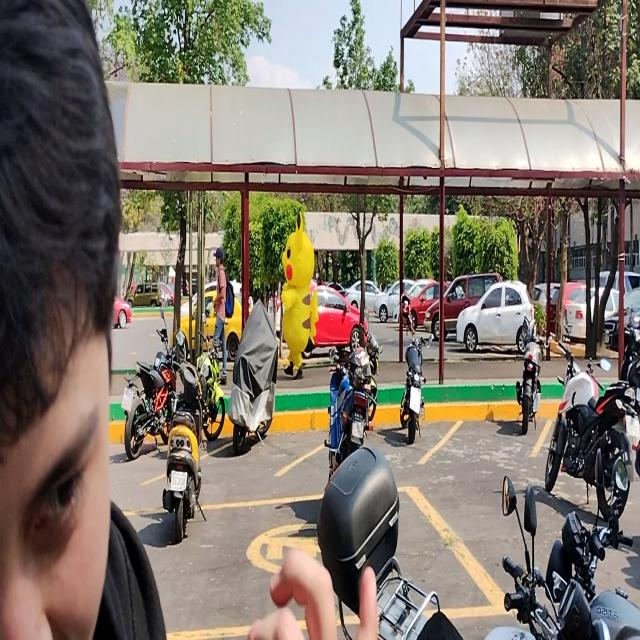adult: (0, 0, 162, 640), (210, 247, 227, 381)
